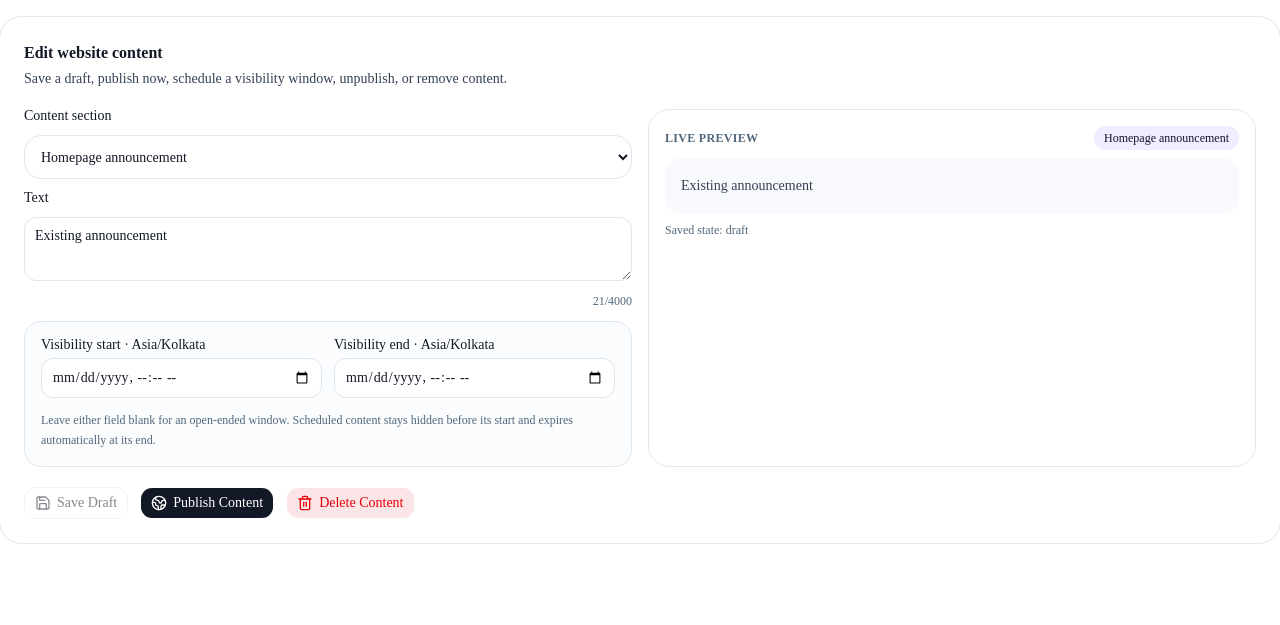
ContentEditor › loads the saved section and reports API errors instead of claiming success
The width and height of the screenshot is (1280, 625).
Replace the text in the text box labelled "Text" with "Updated announcement": (328, 249) x1=24 y1=217 x2=632 y2=281
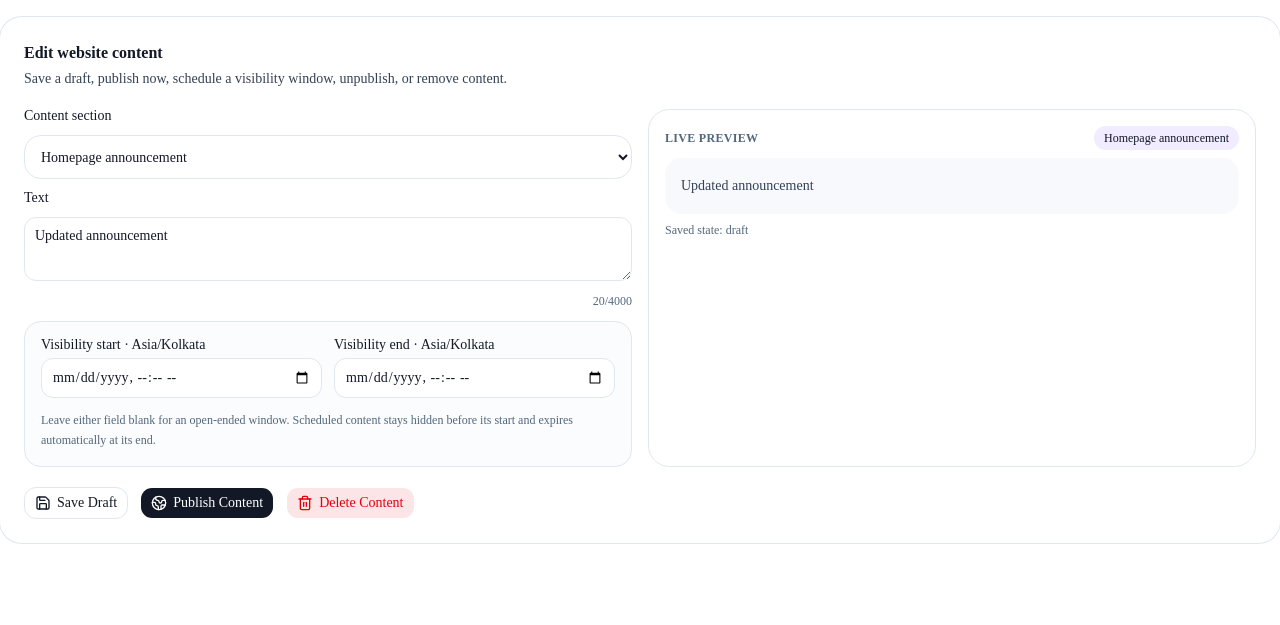
Click the button "Publish Content": (207, 503) x1=140 y1=487 x2=274 y2=519
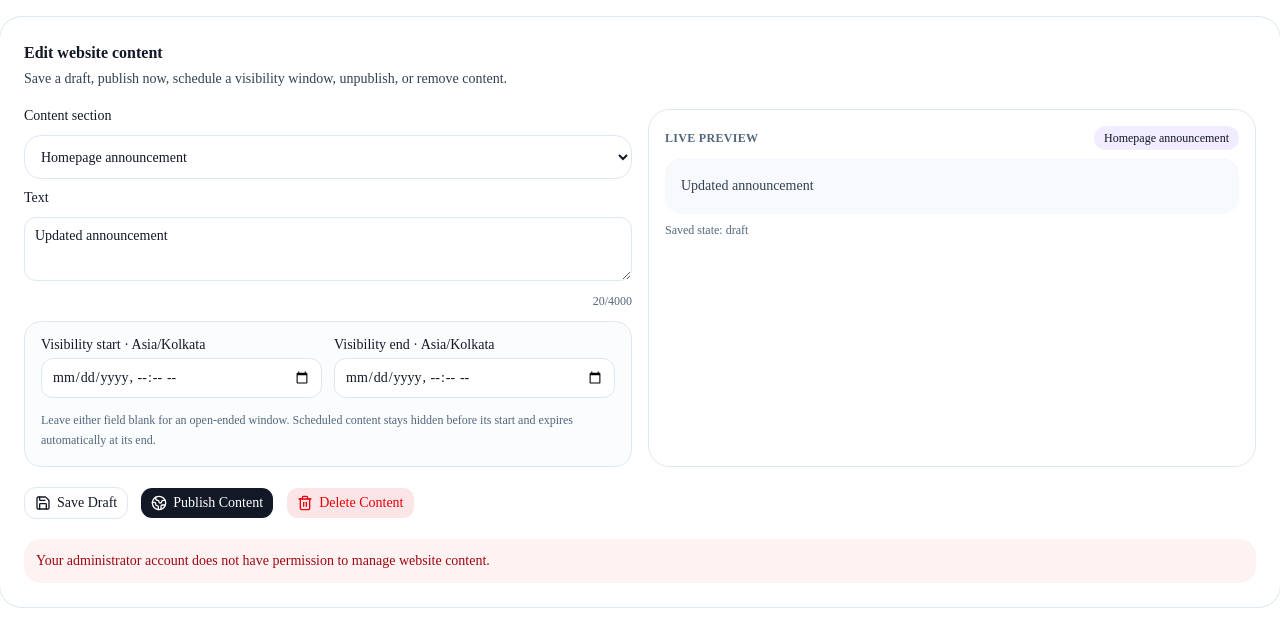
Now the message shows "does not have permission", box x1=36 y1=553 x2=490 y2=568
